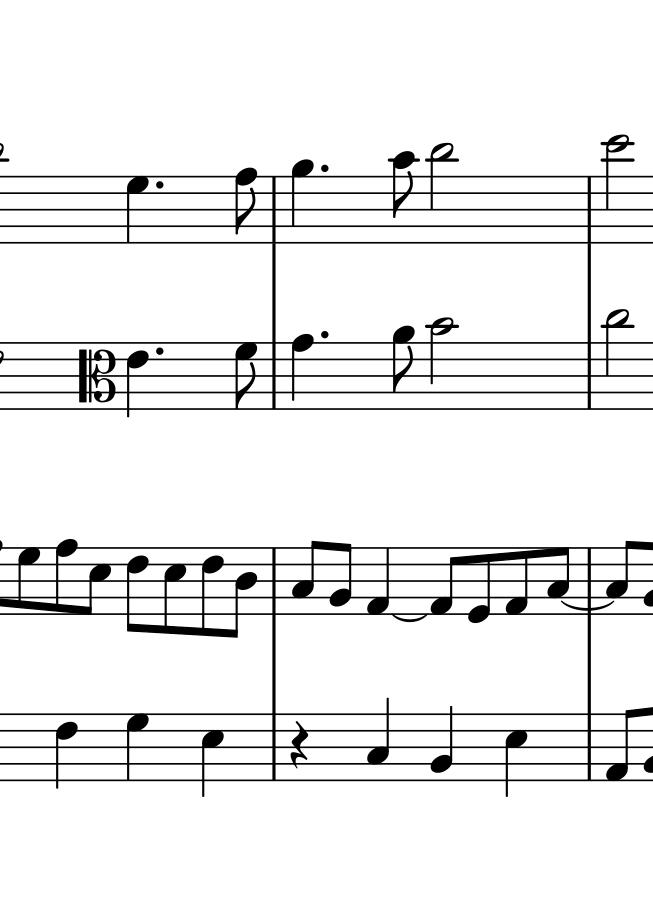2_10: (425, 315, 458, 412)
2_11: (427, 142, 457, 245), (603, 307, 633, 410)
2_12: (602, 132, 635, 245)
4_2: (429, 704, 456, 783)
4_3: (366, 698, 391, 782)
4_5: (200, 712, 224, 801), (504, 711, 527, 800)
4_6: (54, 711, 78, 790), (125, 341, 149, 416)
4_7: (125, 175, 150, 245), (125, 713, 150, 782)
4_8: (289, 332, 314, 412)
4_9: (290, 157, 313, 244)
8_0: (466, 546, 492, 626)
8_1: (604, 706, 636, 783), (428, 545, 460, 617), (365, 544, 392, 617), (504, 544, 530, 617)
8_10: (391, 151, 417, 247)
8_2: (329, 542, 353, 616)
8_3: (604, 539, 636, 616), (291, 539, 321, 616), (545, 546, 570, 615)
8_4: (229, 547, 259, 639)
8_5: (162, 545, 187, 636), (82, 546, 112, 617)
8_6: (200, 545, 224, 640), (125, 545, 149, 636)
8_7: (233, 340, 259, 410), (15, 545, 40, 615)
8_8: (233, 166, 259, 245), (54, 538, 78, 617)
8_9: (391, 324, 416, 410)
Cclef: (77, 342, 117, 410)
Rests4: (288, 719, 310, 771)
Single_barline: (580, 714, 597, 780), (266, 713, 282, 782), (581, 342, 597, 407), (267, 178, 283, 242), (581, 177, 597, 240), (267, 341, 282, 408), (582, 547, 597, 612), (267, 547, 281, 614)
Slur: (560, 602, 615, 611), (393, 612, 428, 623)
dot: (317, 162, 331, 176), (317, 328, 332, 341), (153, 344, 166, 358), (153, 177, 165, 191)
